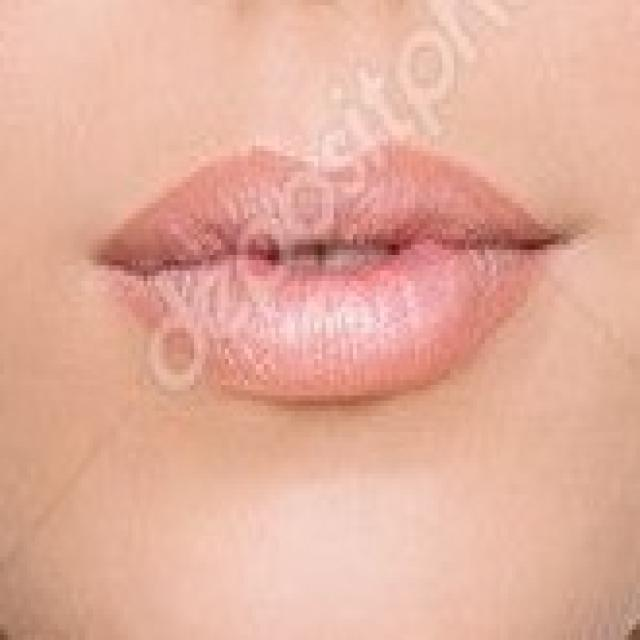closed-mouth: (89, 125, 574, 406)
